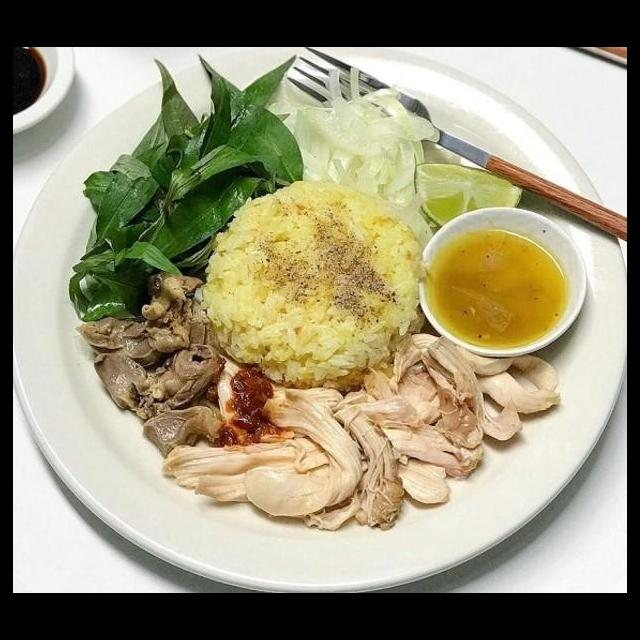com: (197, 176, 429, 397)
com ga: (16, 98, 627, 593)
rau ram: (125, 49, 306, 230), (64, 127, 221, 323)
thit ga: (157, 329, 565, 533)
